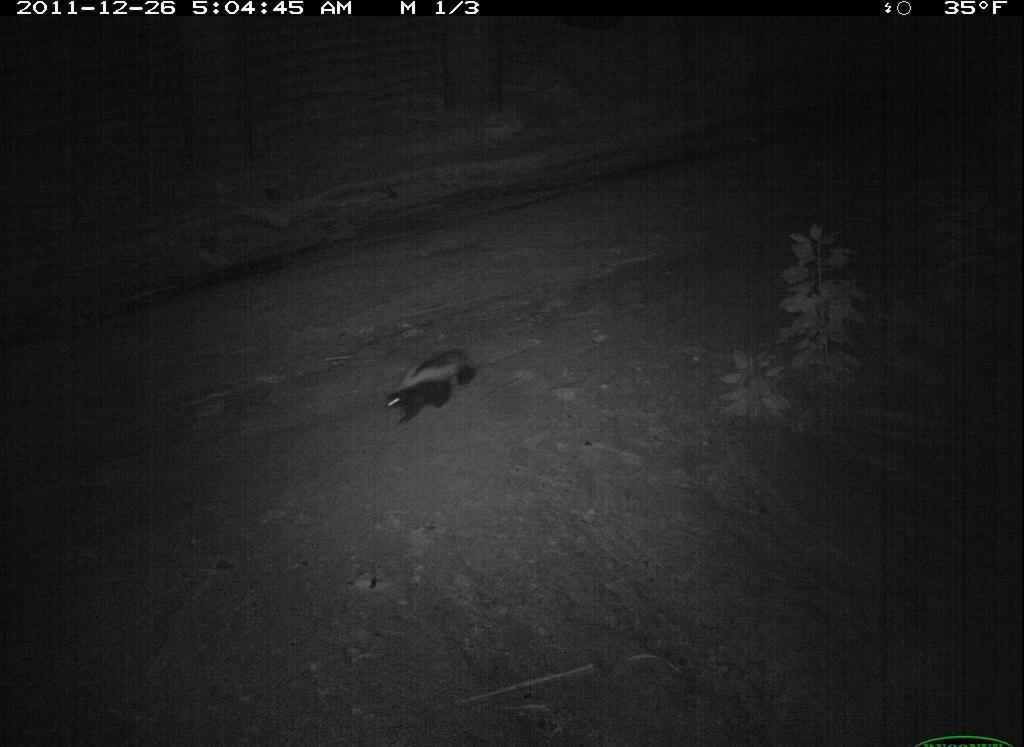skunk: (382, 341, 492, 432)
